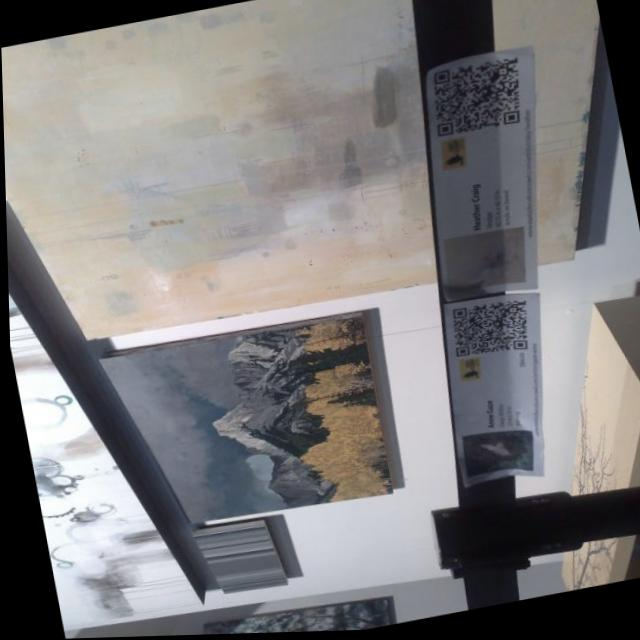qrcode: (426, 59, 530, 140), (446, 299, 534, 366)
